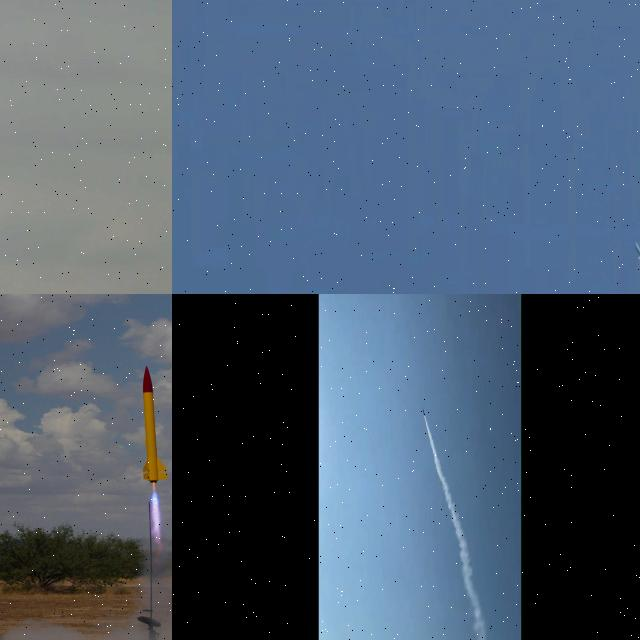Rocket: (142, 366, 168, 483), (635, 242, 640, 261), (422, 408, 425, 417)
